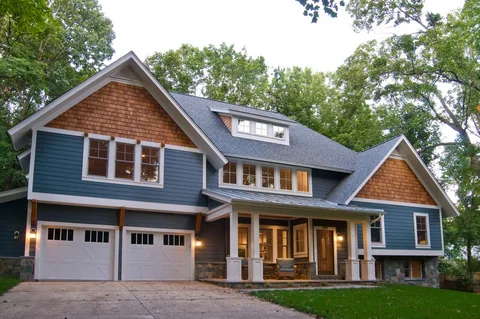private_hause: (23, 102, 443, 290)
